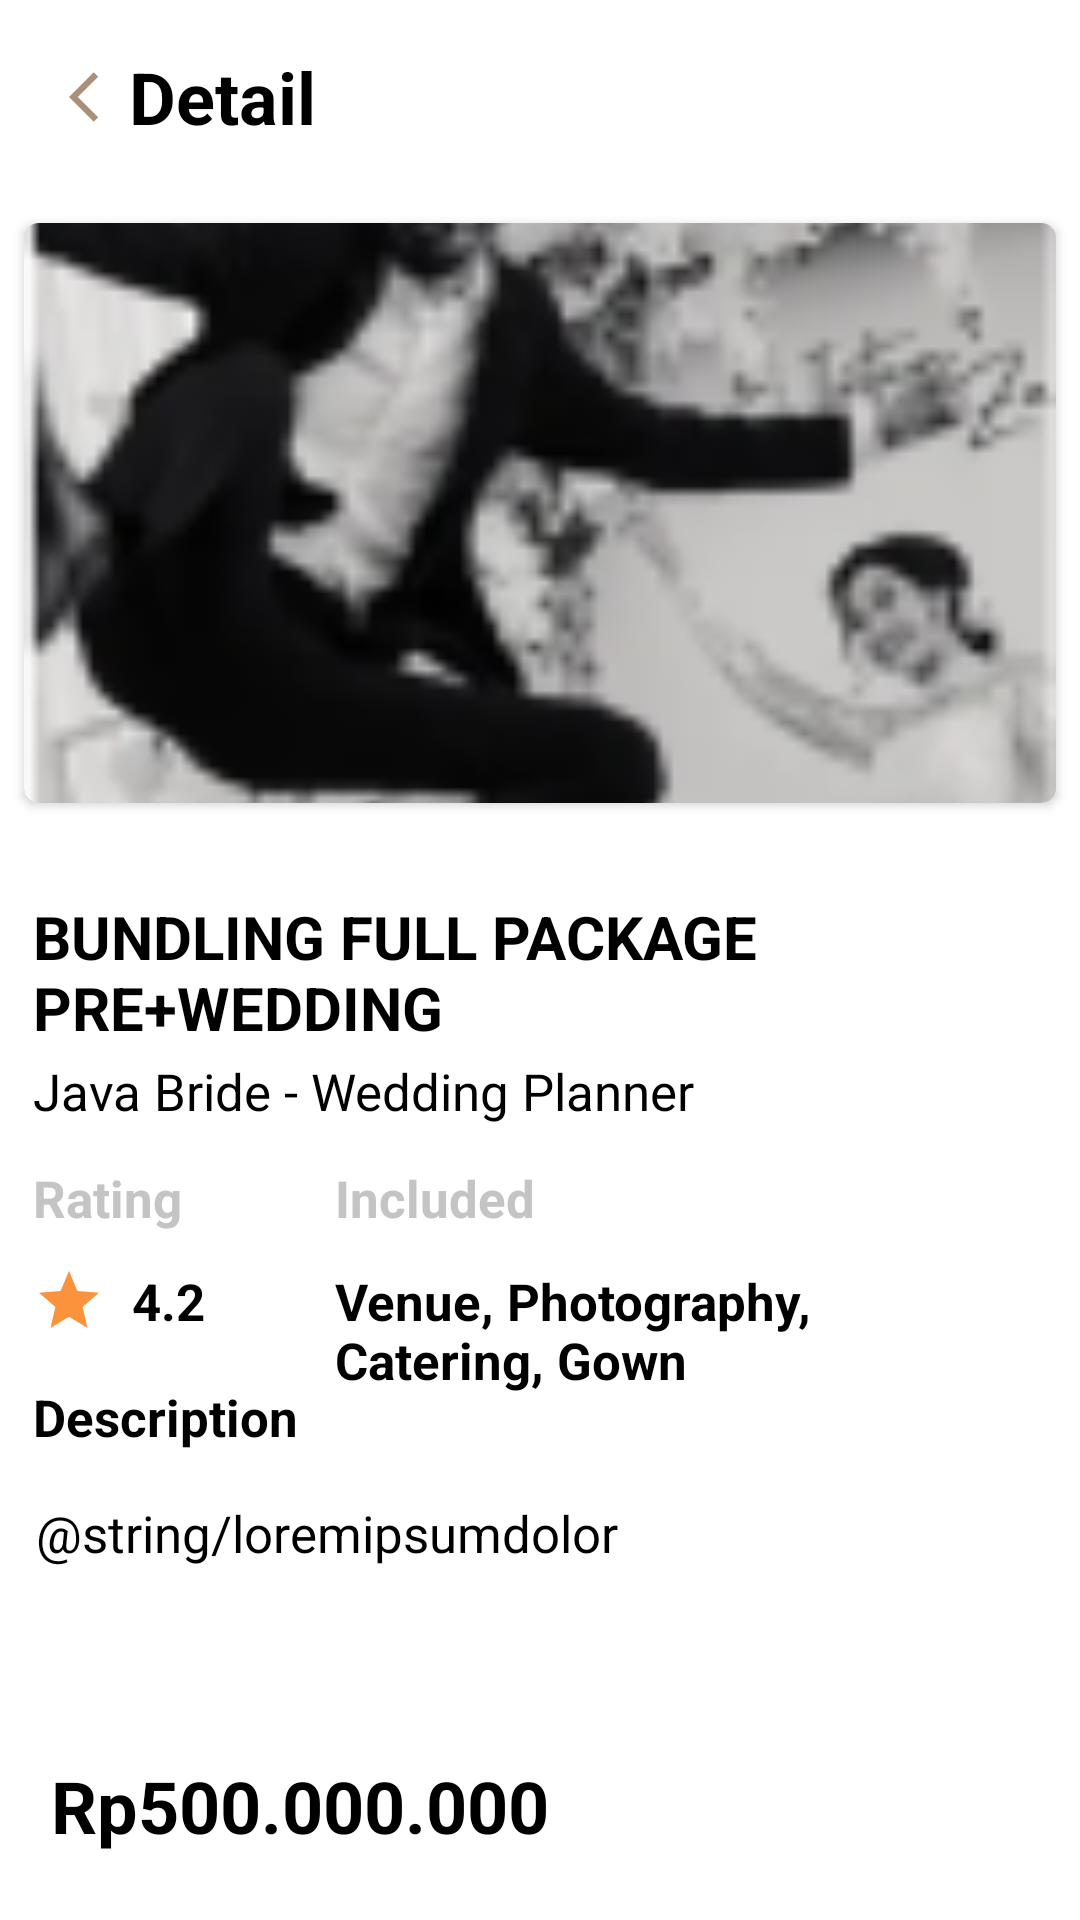

Screen size 1080×1920. Icon name, then its box in pixels as (x1, y1, x2, y2):
arrow back: (69, 72, 98, 122)
star: (39, 1271, 99, 1328)
